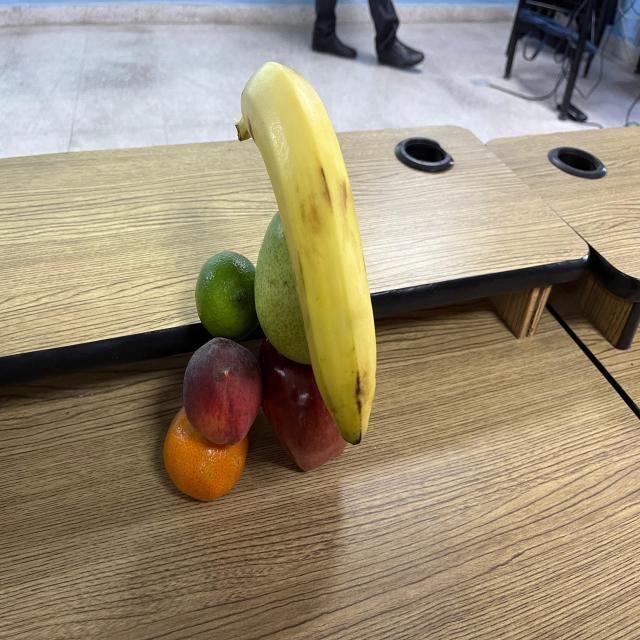Apel Merah: (260, 338, 356, 474)
Jeruk Mandarin: (158, 397, 254, 507)
Lemon: (193, 248, 263, 340)
Persik: (180, 338, 268, 448)
Pir: (252, 190, 316, 372)
Pisang: (230, 59, 380, 448)
